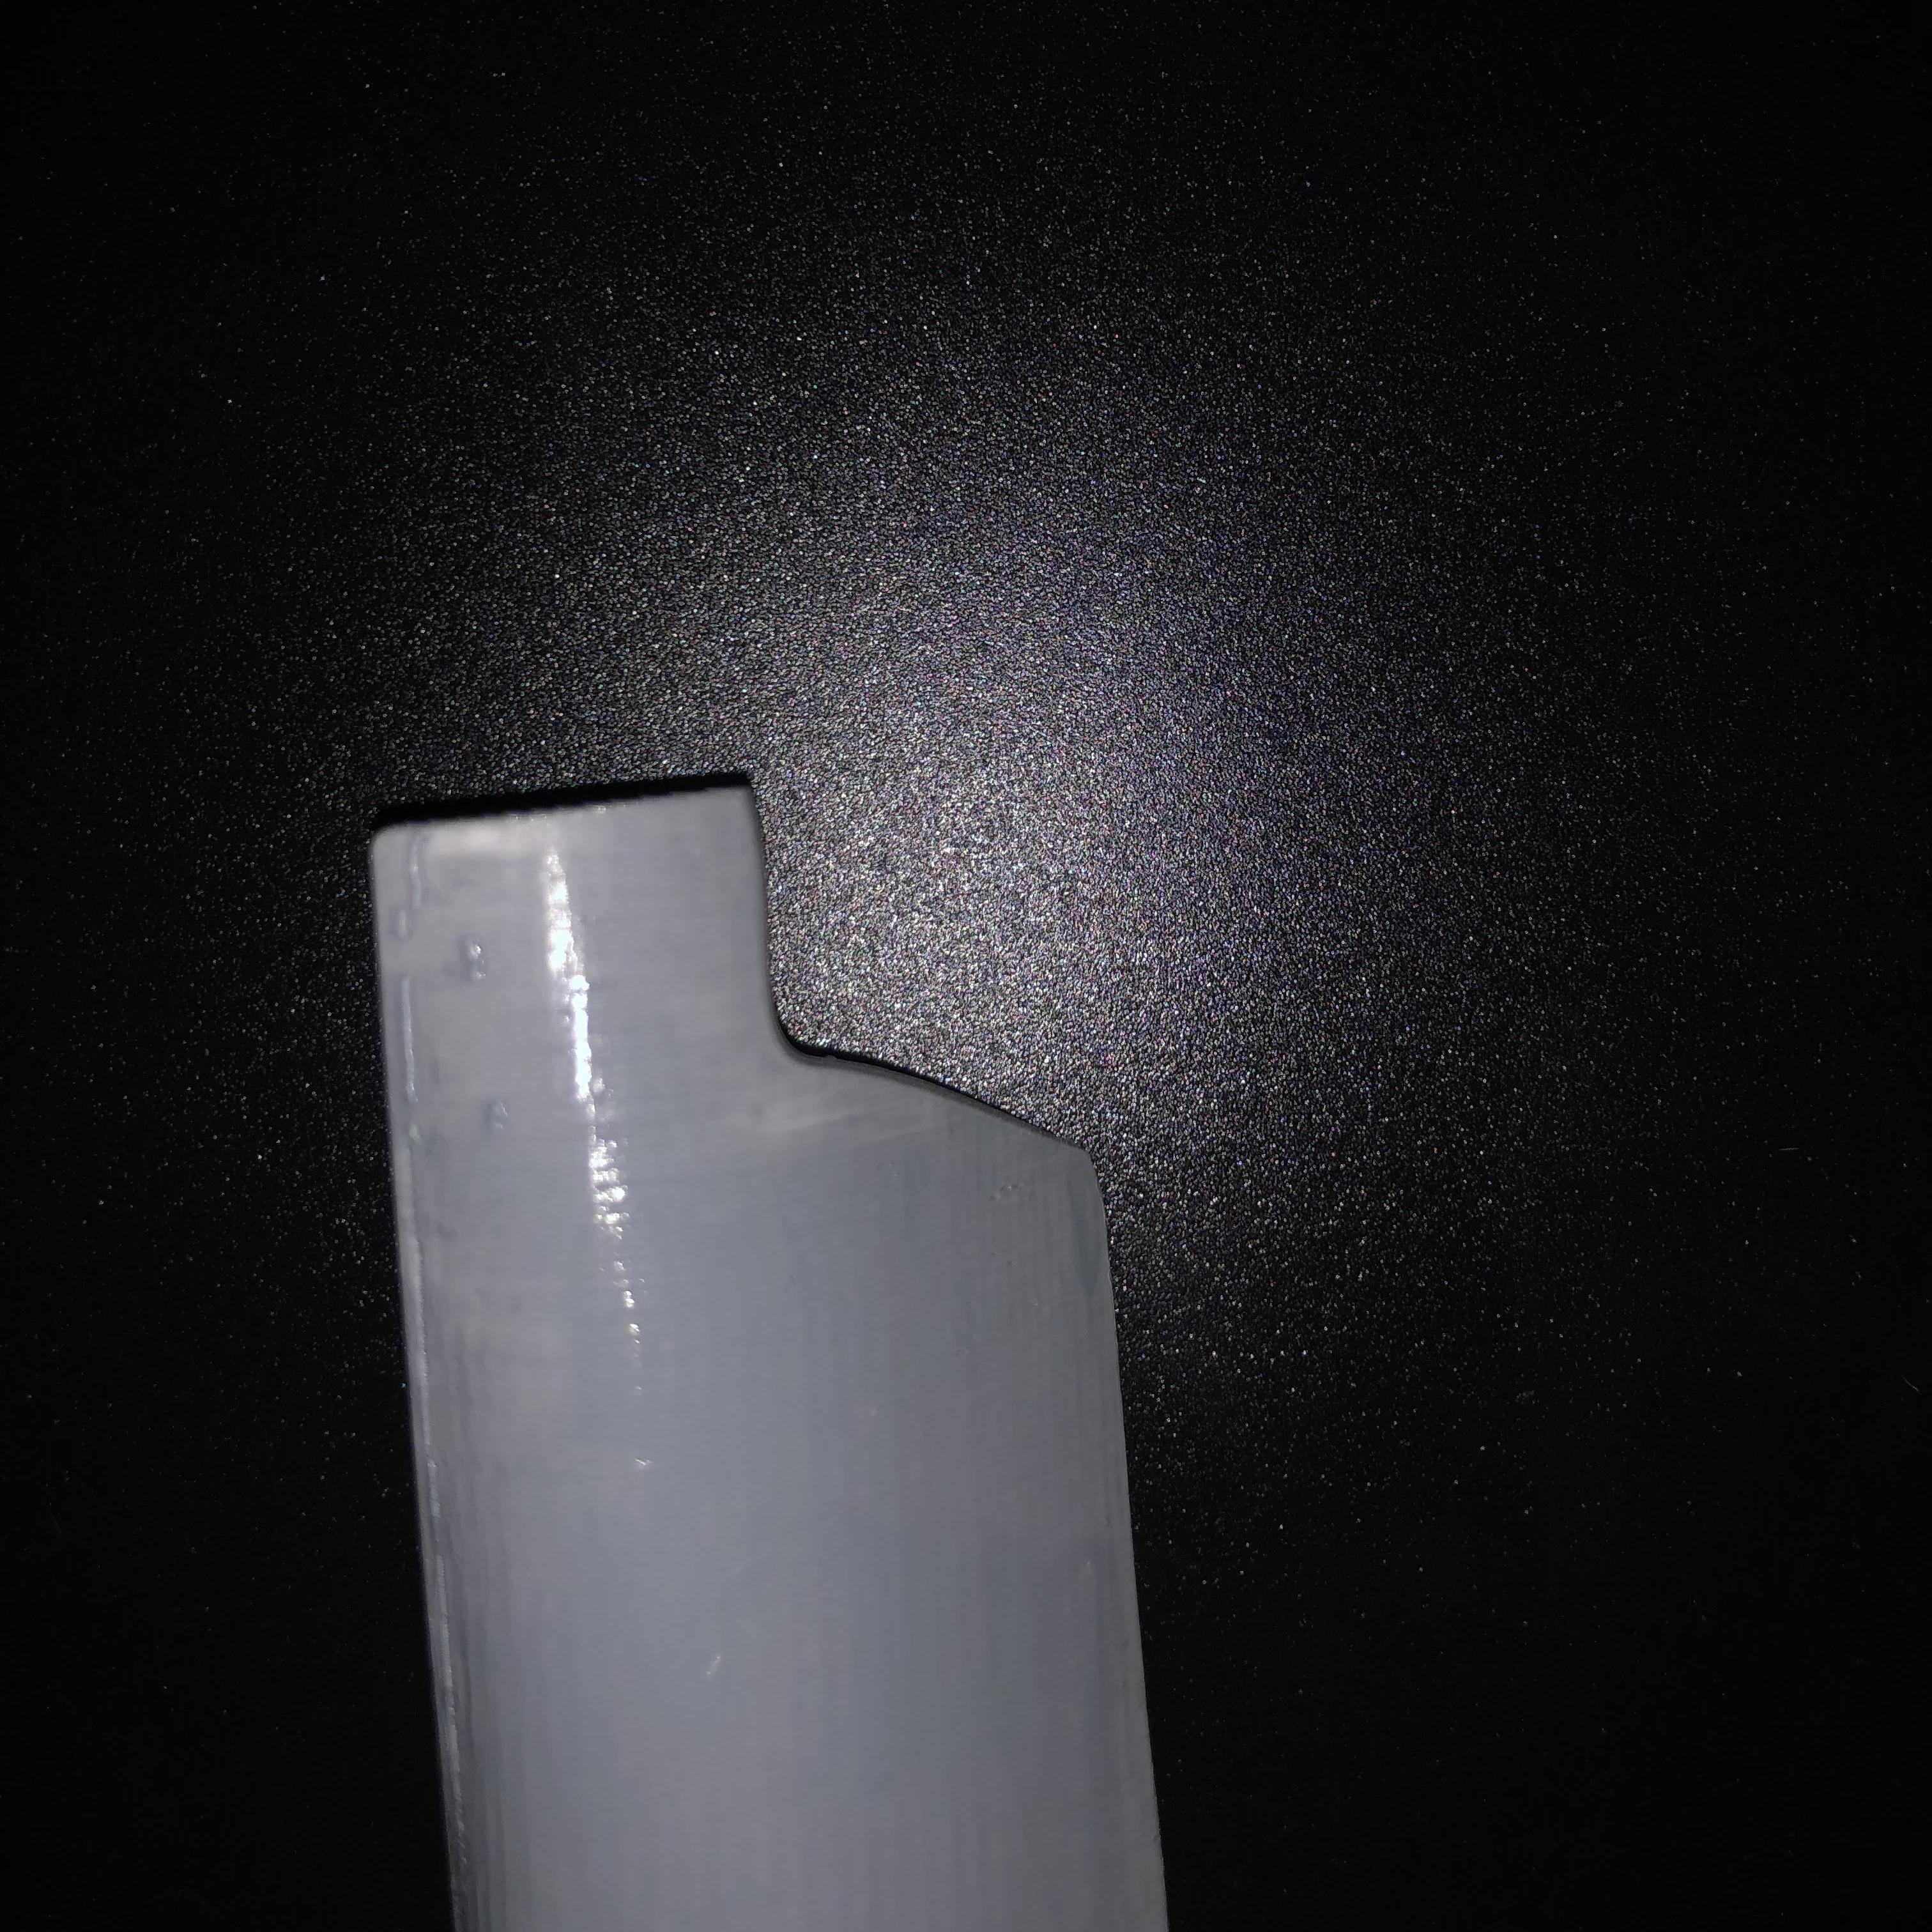fracture: (725, 789, 1106, 1164)
